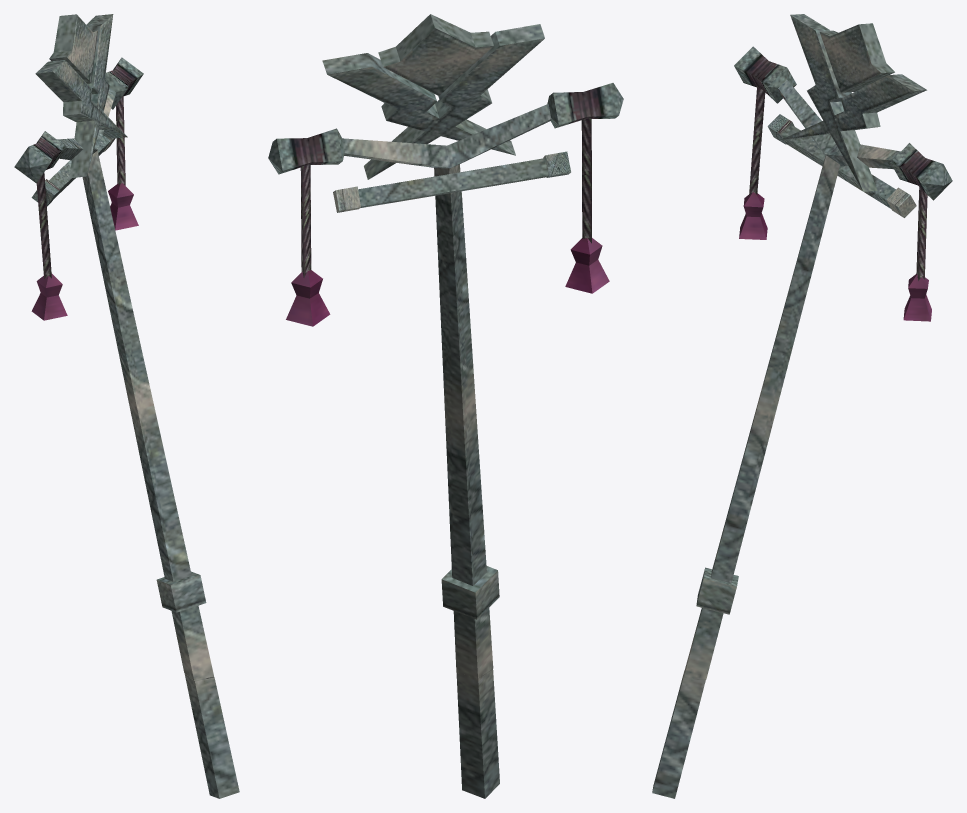
File: C4SMBANNERH.obj
The picture shows the model from 3 angles, left to right: view 1: azimuth 30°, elevation 25°; view 2: azimuth 150°, elevation 25°; view 3: azimuth 270°, elevation 25°; orthographic projection. The views are drawn at different scales.
Visible parts, largest first — view 1: Node 4, Node 5, Node 0, Node 1, Node 3, Node 2; view 2: Node 4, Node 5, Node 2, Node 0, Node 1, Node 3; view 3: Node 4, Node 5, Node 0, Node 2, Node 1, Node 3.
Boxes of the visible parts, x1,y1,x2,y2 form: Node 4: (14,57,213,680); Node 5: (35,14,127,178); Node 0: (184,673,239,798); Node 1: (31,172,67,320); Node 3: (108,96,138,230); Node 2: (31,135,115,206); Node 4: (268,83,623,678); Node 5: (322,14,544,179); Node 2: (333,151,570,212); Node 0: (456,669,499,798); Node 1: (565,118,609,293); Node 3: (286,164,330,326); Node 4: (683,46,952,679); Node 5: (780,14,926,191); Node 0: (652,670,705,798); Node 2: (767,114,916,217); Node 1: (739,86,767,239); Node 3: (903,187,931,321).
Size of the model in its own units: 6.38 by 21.25 by 7.77.
8 materials, 8 textured.
